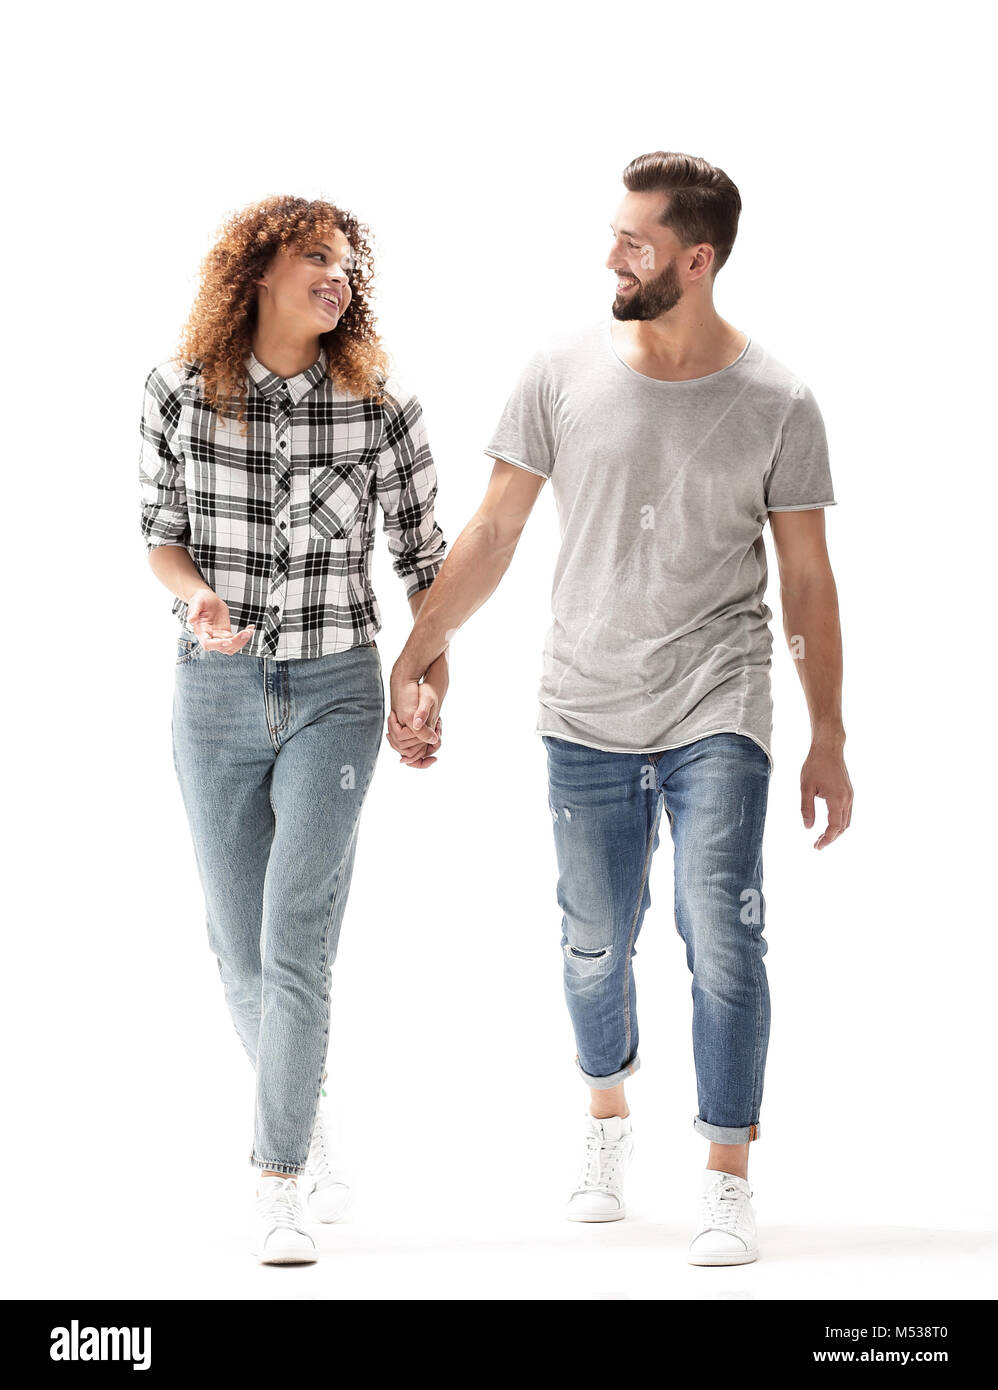face: (208, 185, 382, 349), (605, 154, 746, 329)
